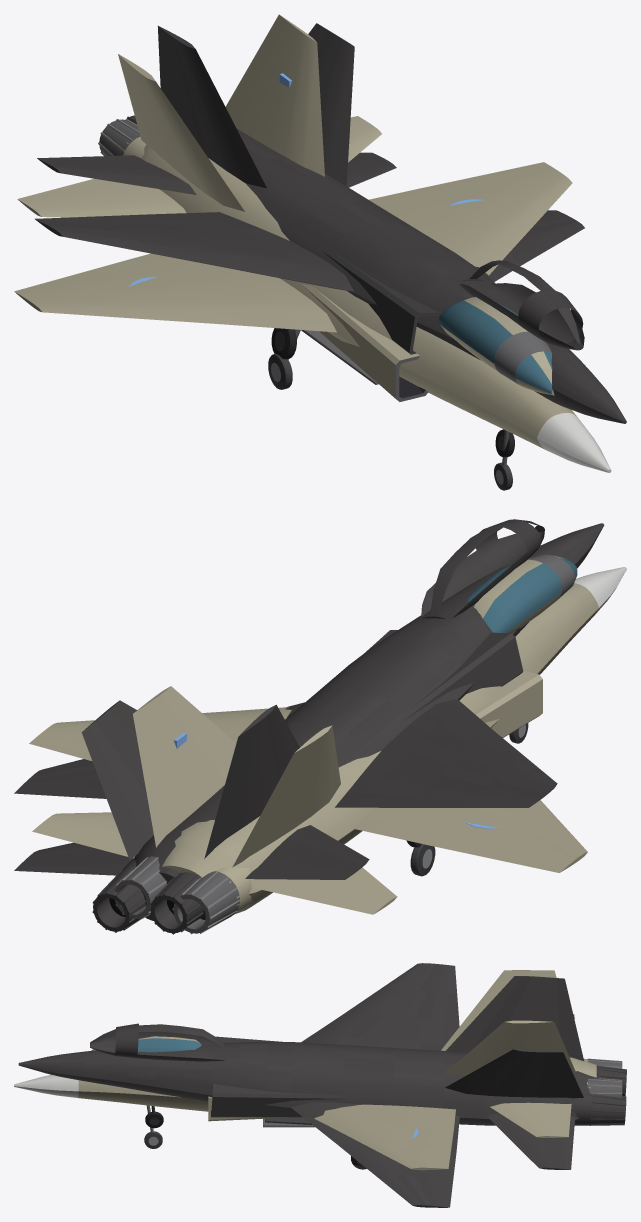
The model's file is jet__kf_21_boramae_f_15k.glb.
3 views of the same model, one above another, from view 1: azimuth 30°, elevation 25°; view 2: azimuth 150°, elevation 25°; view 3: azimuth 270°, elevation 25° (orthographic). The views are drawn at different scales.
Parts seen in each view (by area): view 1: Fuselage_Mesh, Wreck; view 2: Wreck, Fuselage_Mesh; view 3: Wreck, Fuselage_Mesh.
Part boxes in pixels (x1,y1,x2,y2): Fuselage_Mesh: (14,14,611,490); Wreck: (35,23,626,457); Wreck: (14,519,604,934); Fuselage_Mesh: (29,554,626,934); Wreck: (18,963,626,1207); Fuselage_Mesh: (14,970,622,1170).
Size of what is drawn, in the model's own units: 11.5 by 4.98 by 17.07.
